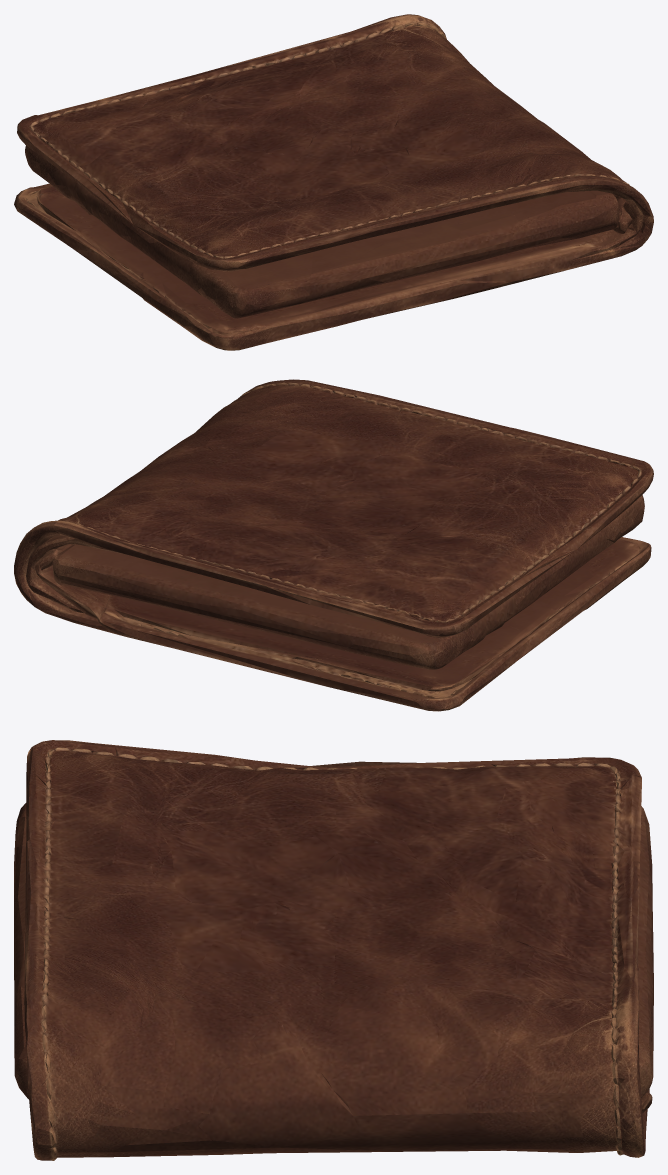
File: remeshed-wallet-10000.glb
3 renders of one model, top to bottom at view 1: azimuth 30°, elevation 25°; view 2: azimuth 150°, elevation 25°; view 3: azimuth 270°, elevation 25°, orthographic. The views are drawn at different scales.
Visible parts, largest first — view 1: output_unwrapped; view 2: output_unwrapped; view 3: output_unwrapped.
Boxes of the visible parts, x1=… form: output_unwrapped: x1=14, y1=14, x2=653, y2=350; output_unwrapped: x1=14, y1=379, x2=653, y2=711; output_unwrapped: x1=14, y1=740, x2=653, y2=1160.
Bounding box in the file's own units: 1.9 × 0.4021 × 1.66.
1 material, 1 textured.
